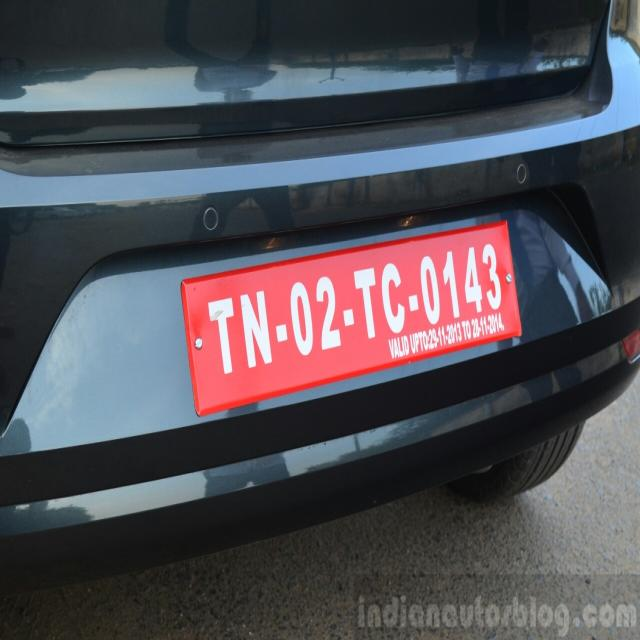number_plate: (179, 222, 515, 408)
